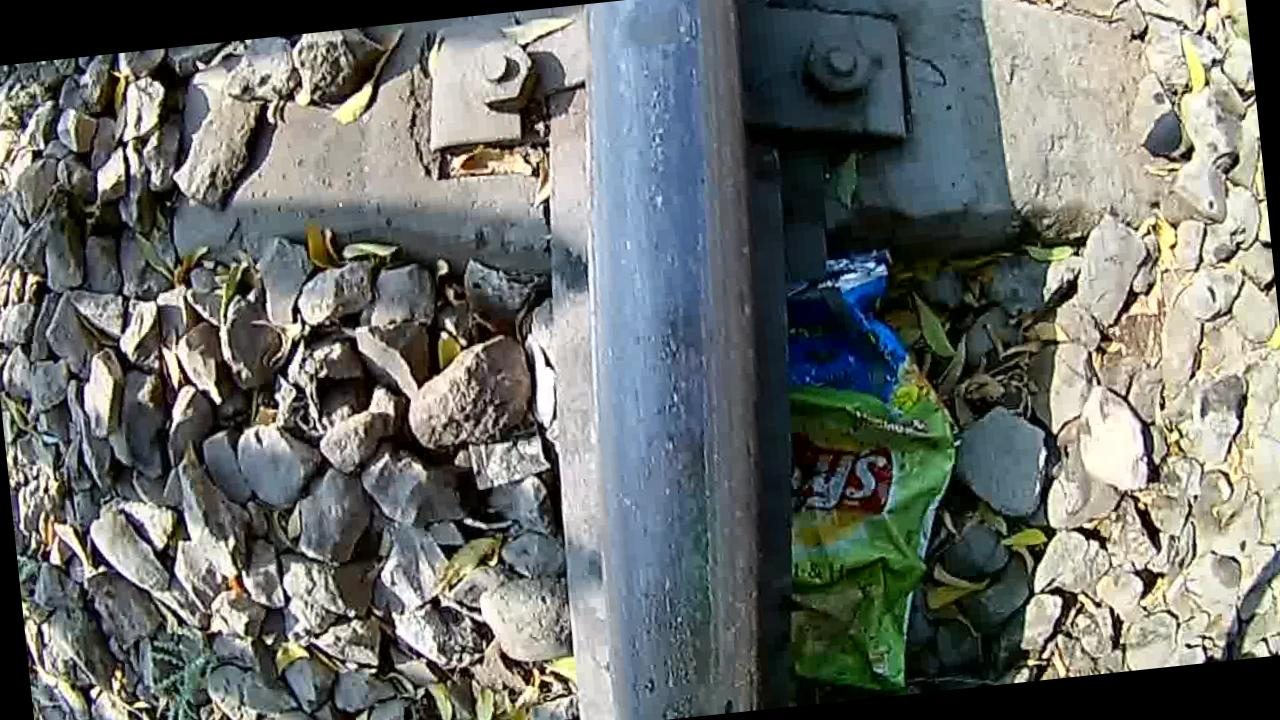bolt_missing: (592, 0, 706, 86)
